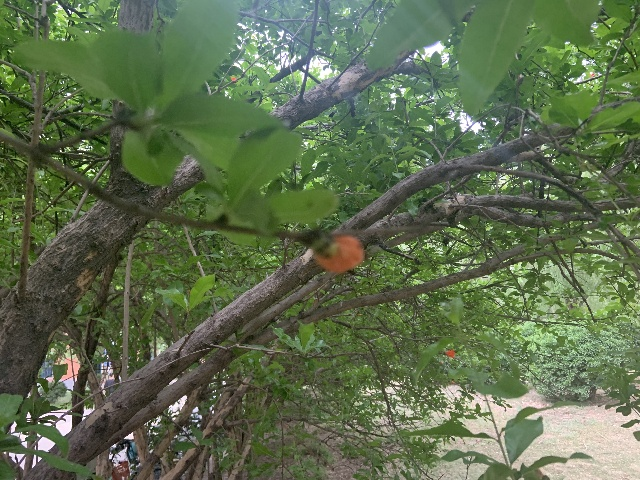bud: (314, 236, 364, 273)
flower: (444, 349, 456, 359)
